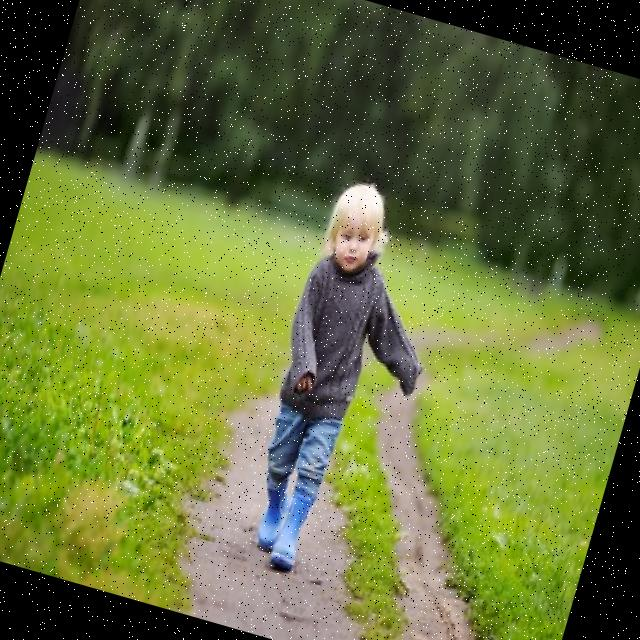Person: (226, 173, 466, 591)
